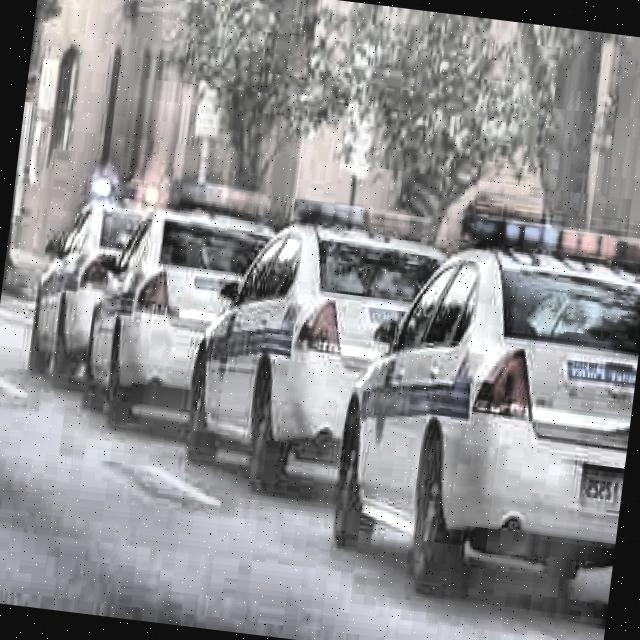license_plate: (576, 467, 623, 512)
